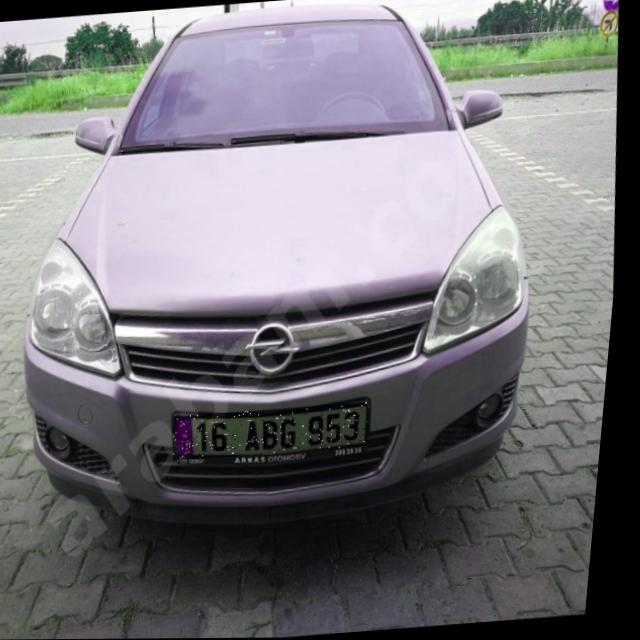license_plate: (178, 403, 378, 461)
